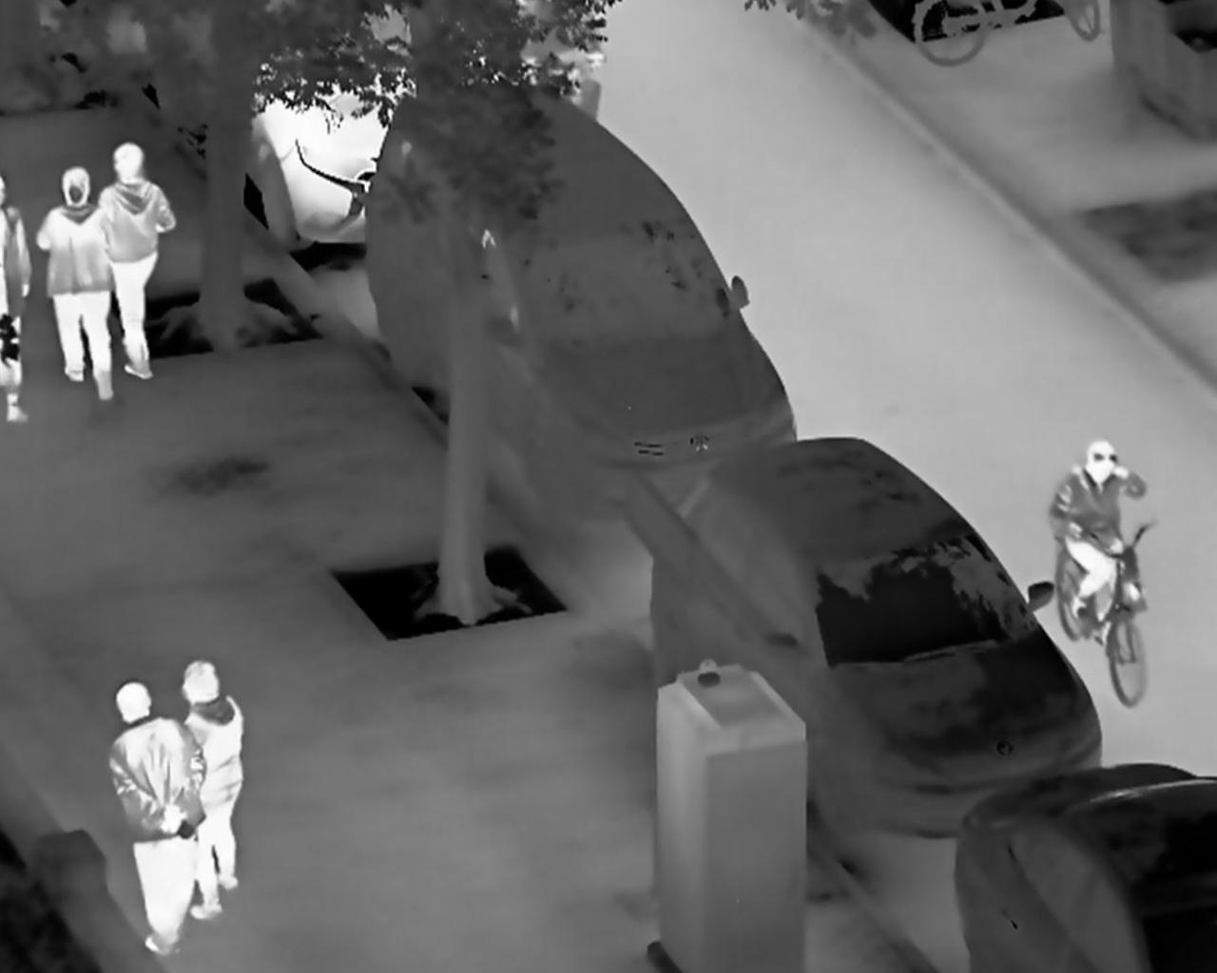person: (105, 678, 206, 958), (32, 165, 120, 401), (96, 143, 180, 382), (1050, 439, 1151, 625), (178, 658, 245, 920)
